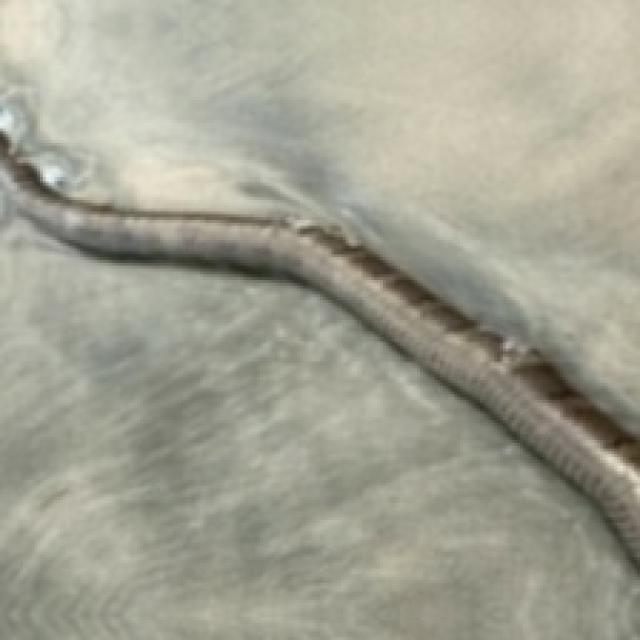king cobra: (0, 0, 637, 429), (0, 211, 637, 637)
